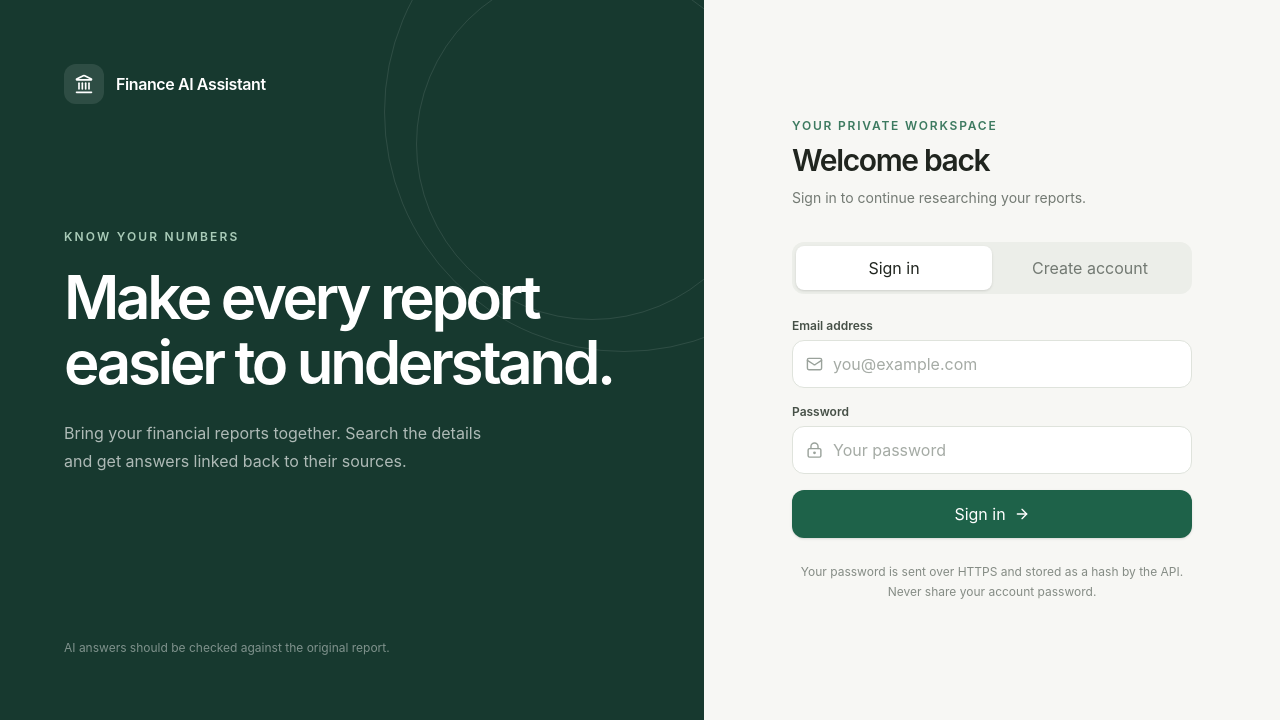
Test case: AuthScreen › registers with the existing account API flow and returns to sign in
The image size is (1280, 720).
Click the tab "Create account". click: point(1090, 268)
box: [992, 246, 1188, 290]
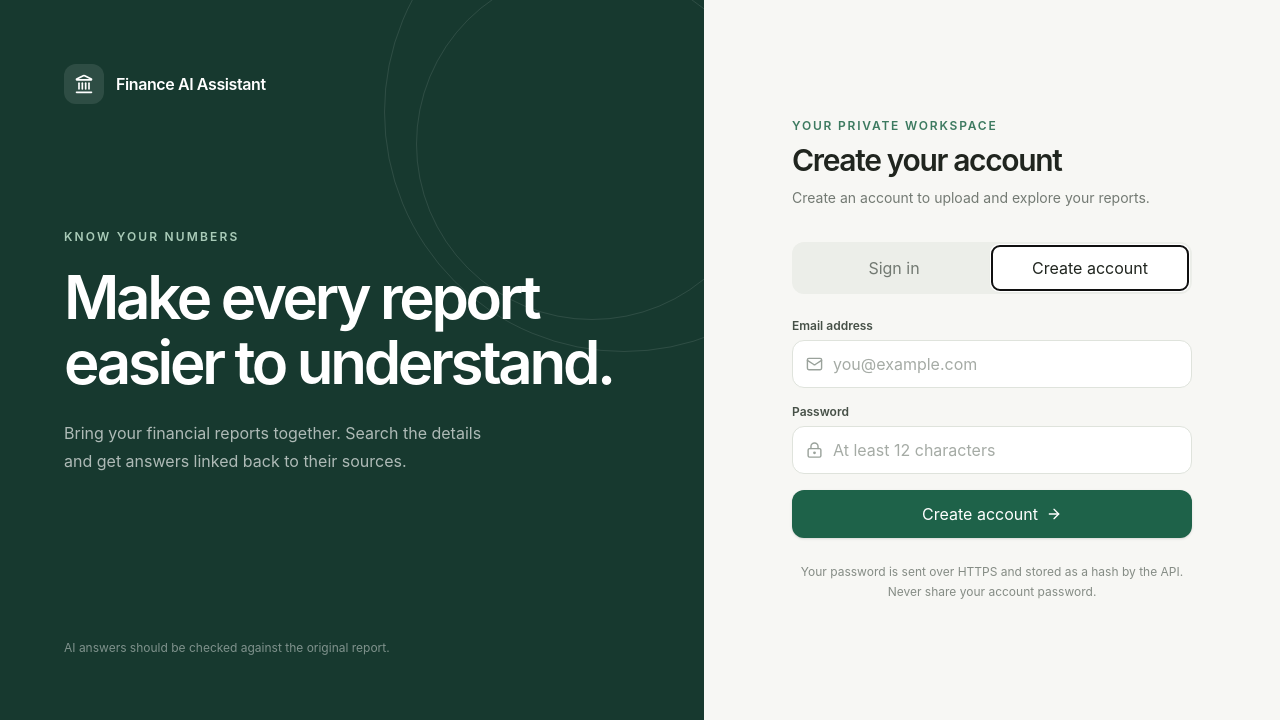
Type "reader@example.com" into the field labelled "Email address". click: point(992, 364)
box: [792, 340, 1192, 388]
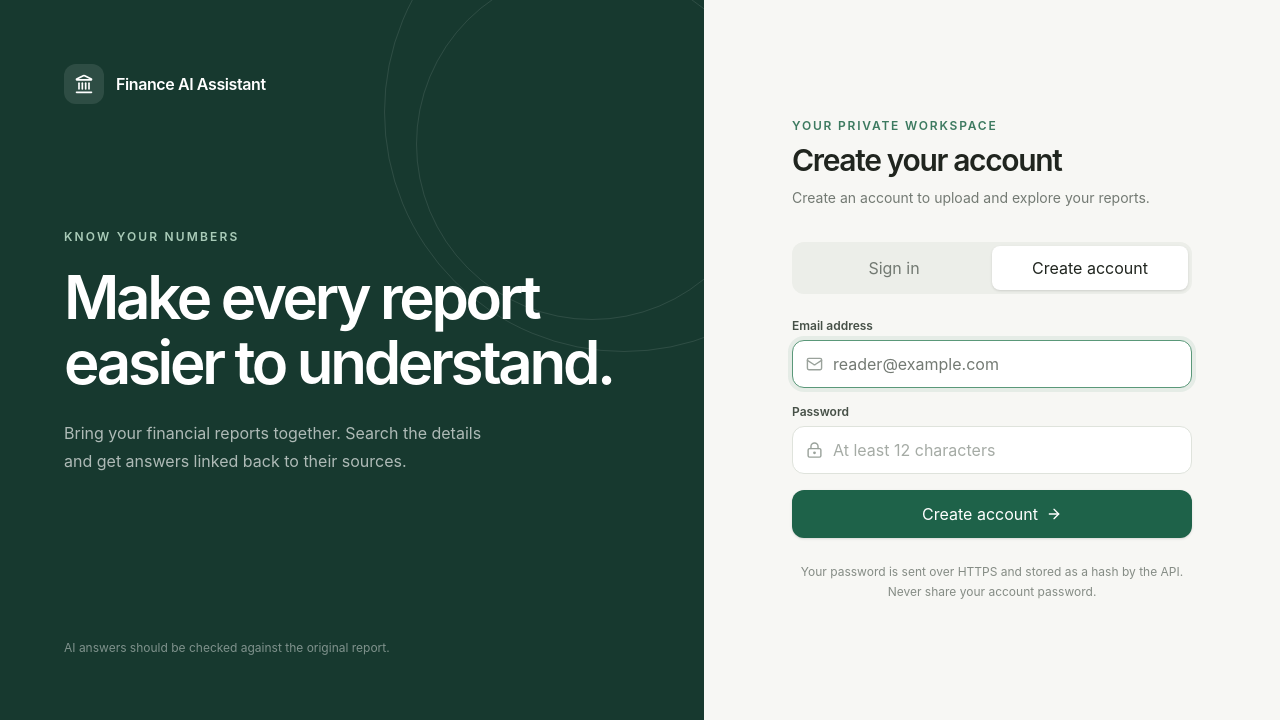
Type "A-unique-test-pass-42" into the password field labelled "Password". click: point(992, 450)
box: [792, 426, 1192, 474]
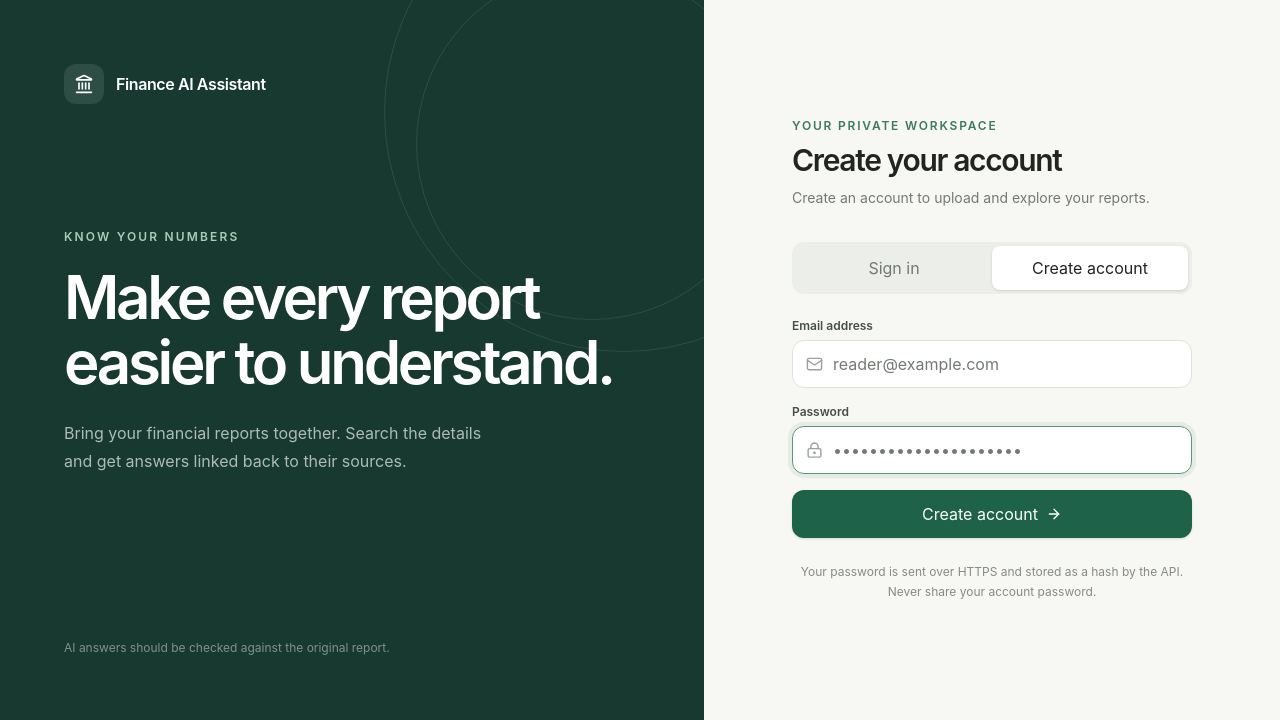
Click the button "Create account". click: point(992, 514)
box: [792, 490, 1192, 538]
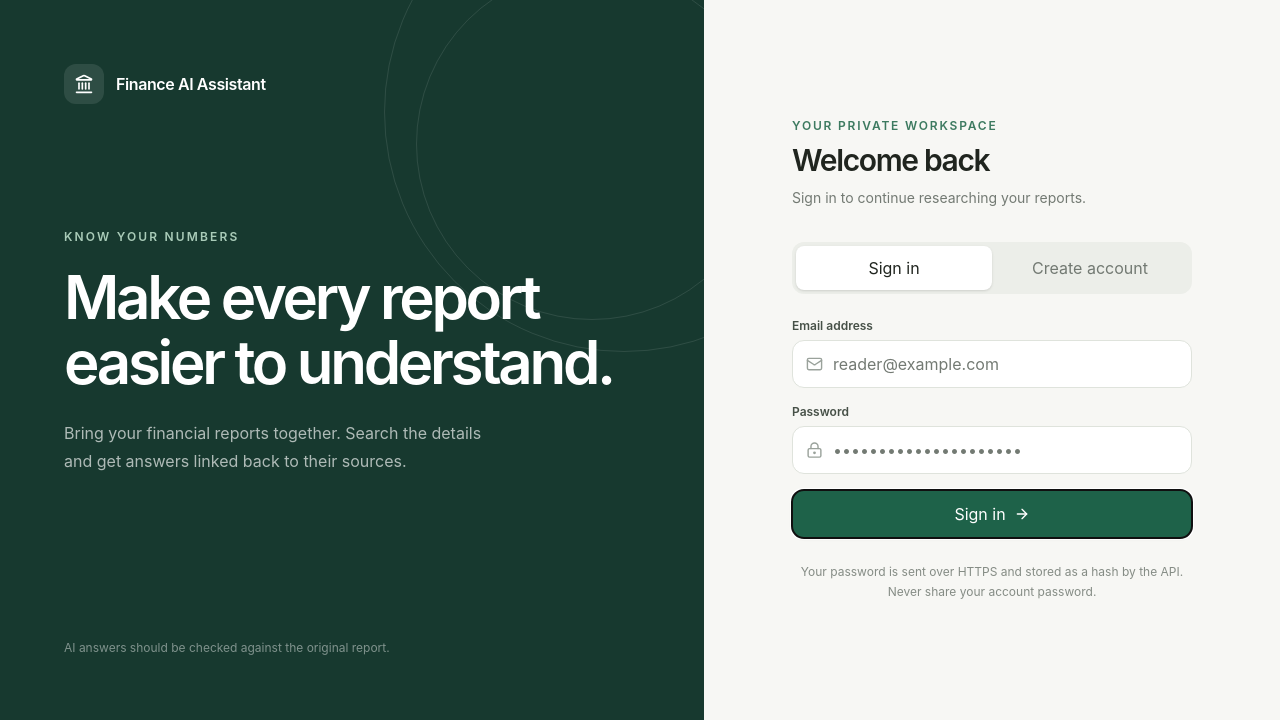
Expected: the heading "Welcome back" is shown, [792, 142, 989, 178]
